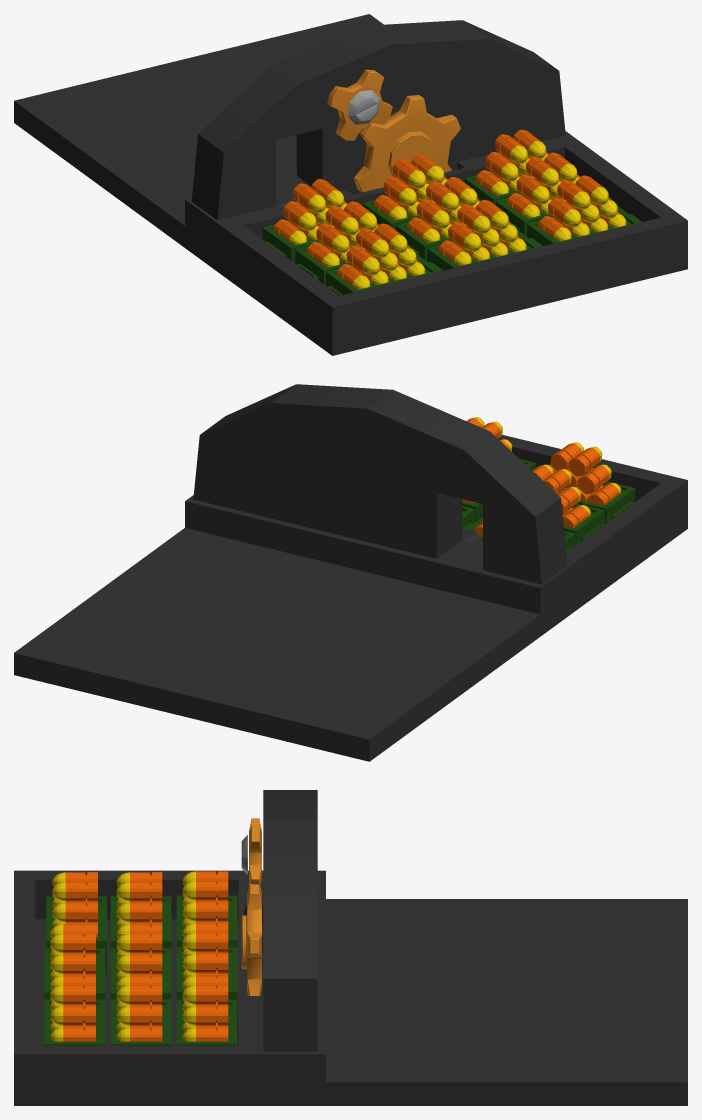
The model's file is Ammo Upgrade.fbx.
3 renders of one model, top to bottom at view 1: azimuth 30°, elevation 25°; view 2: azimuth 150°, elevation 25°; view 3: azimuth 270°, elevation 25°, orthographic. The views are drawn at different scales.
Parts seen in each view (by area): view 1: Cube.013, Circle.023, Circle.028, Circle.026, Cube.022, Circle.027, Cube.018, Cube.019, Cube.014, Cube.021, Cube.020, Circle.134 (+37 smaller); view 2: Cube.013, Circle.023, Cube.022, Cube.021, Circle.206, Circle.209; view 3: Cube.013, Circle.023, Circle.028, Cube.016, Cube.017, Cube.018, Cube.015, Cube.021, Cube.014, Cube.020, Circle.147, Circle.145 (+22 smaller).
Part boxes in pixels (x1,y1,x2,y2): Cube.013: [14, 14, 687, 355]; Circle.023: [191, 20, 565, 220]; Circle.028: [353, 95, 460, 192]; Circle.026: [327, 69, 392, 140]; Cube.022: [326, 254, 440, 295]; Circle.027: [348, 90, 379, 124]; Cube.018: [527, 205, 641, 246]; Cube.019: [427, 230, 541, 270]; Cube.014: [262, 221, 322, 262]; Cube.021: [295, 243, 352, 285]; Cube.020: [396, 218, 453, 261]; Circle.134: [283, 201, 316, 230]; Cube.013: [14, 434, 687, 761]; Circle.023: [193, 384, 567, 584]; Cube.022: [578, 481, 635, 523]; Cube.021: [563, 503, 604, 545]; Circle.206: [578, 464, 611, 494]; Circle.209: [569, 446, 602, 476]; Cube.013: [14, 870, 687, 1105]; Circle.023: [263, 790, 317, 1051]; Circle.028: [241, 882, 261, 995]; Cube.016: [176, 999, 237, 1045]; Cube.017: [110, 999, 171, 1045]; Cube.018: [44, 999, 104, 1045]; Cube.015: [176, 947, 237, 999]; Cube.021: [110, 896, 171, 948]; Cube.014: [176, 895, 237, 947]; Cube.020: [110, 948, 171, 999]; Circle.147: [182, 932, 228, 952]; Circle.145: [182, 953, 228, 973].
Bounding box in the file's own units: 15.03 × 7.35 × 23.32.
